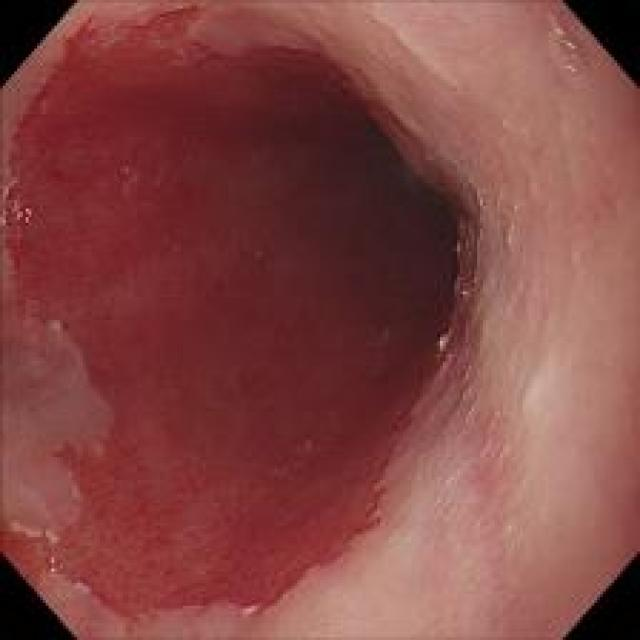color misalignment: (551, 25, 589, 80), (11, 205, 35, 222)
specularity: (9, 198, 35, 225)
